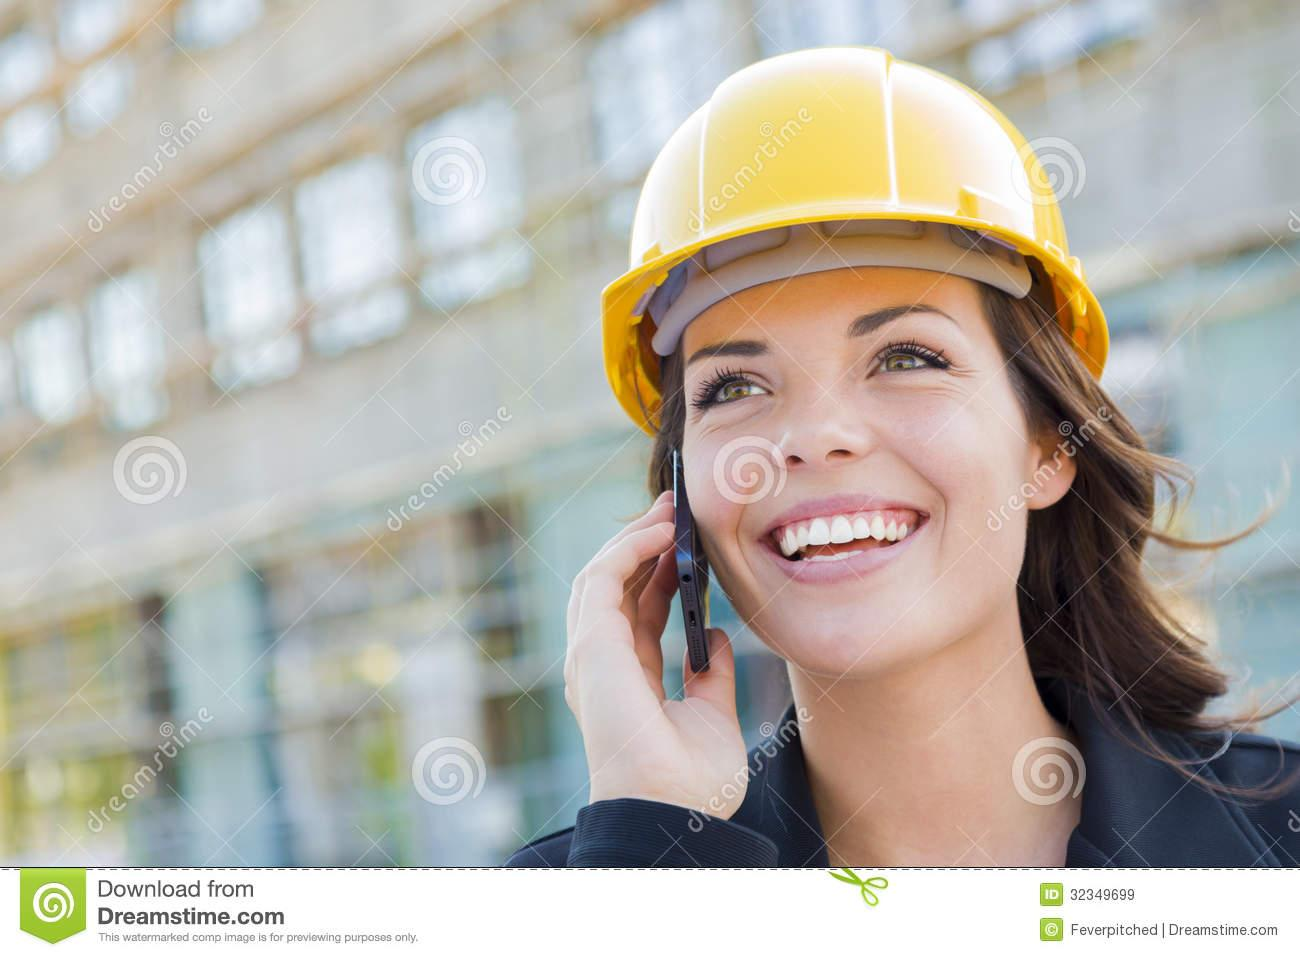helmet: (595, 44, 1103, 420)
